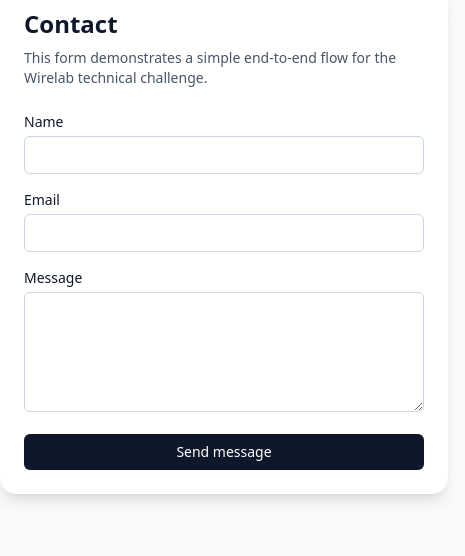
Scenario: ContactPage › shows a success message when the backend returns ok
The width and height of the screenshot is (465, 556).
Type "Rian Schmits" into the field labelled "Name".
click(224, 155); type("Rian Schmits")  # box [24,136,424,174]
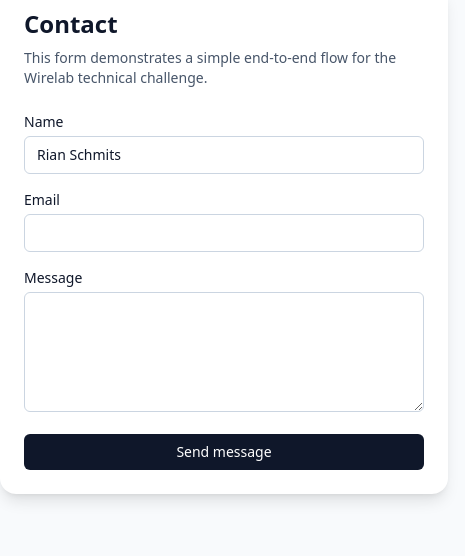
Type "rian@example.com" into the field labelled "Email".
click(224, 233); type("rian@example.com")  # box [24,214,424,252]
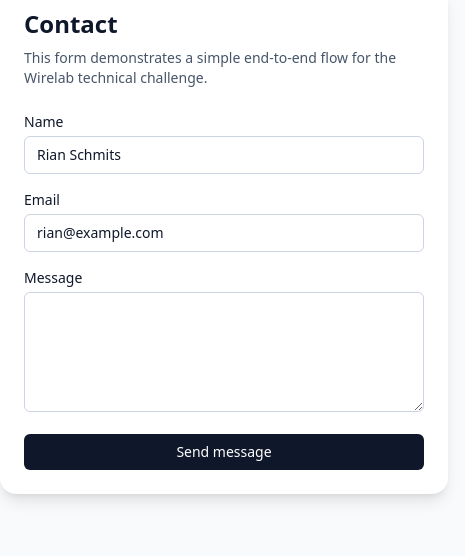
Type "Dit is een testbericht van voldoende lengte." into the text box labelled "Message".
click(224, 352); type("Dit is een testbericht van voldoende lengte.")  # box [24,292,424,412]
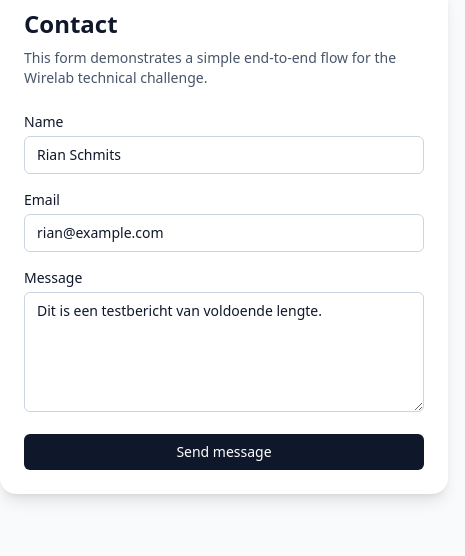
Click the button "Send message".
click(224, 452)  # box [24,434,424,470]
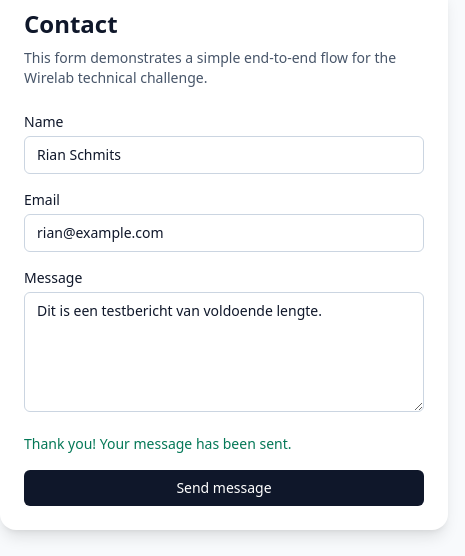
Expected: the message shows "Thank you", [24,434,292,453]
